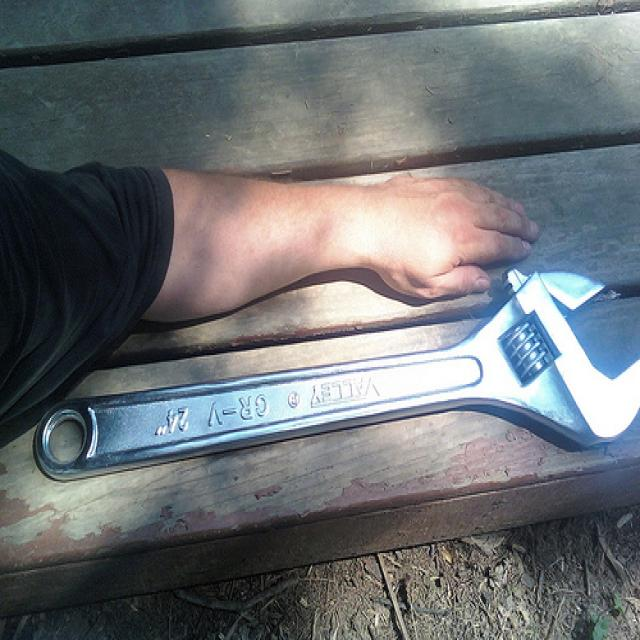wrench: (67, 264, 640, 492)
